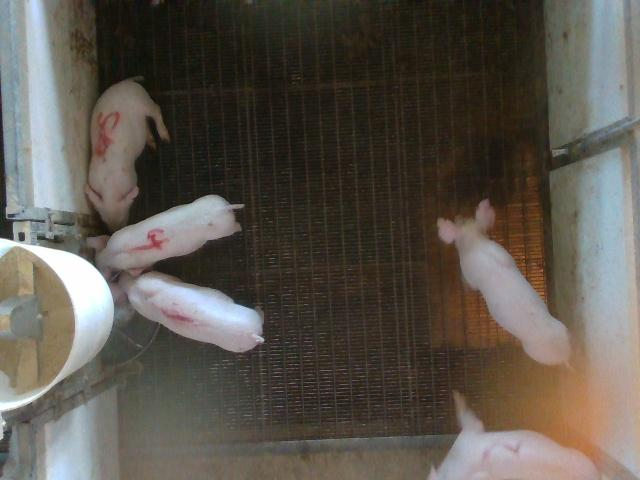pig-1: (119, 271, 264, 352)
pig-2: (429, 391, 600, 480)
pig-4: (96, 195, 244, 276)
pig-5: (85, 78, 170, 231)
